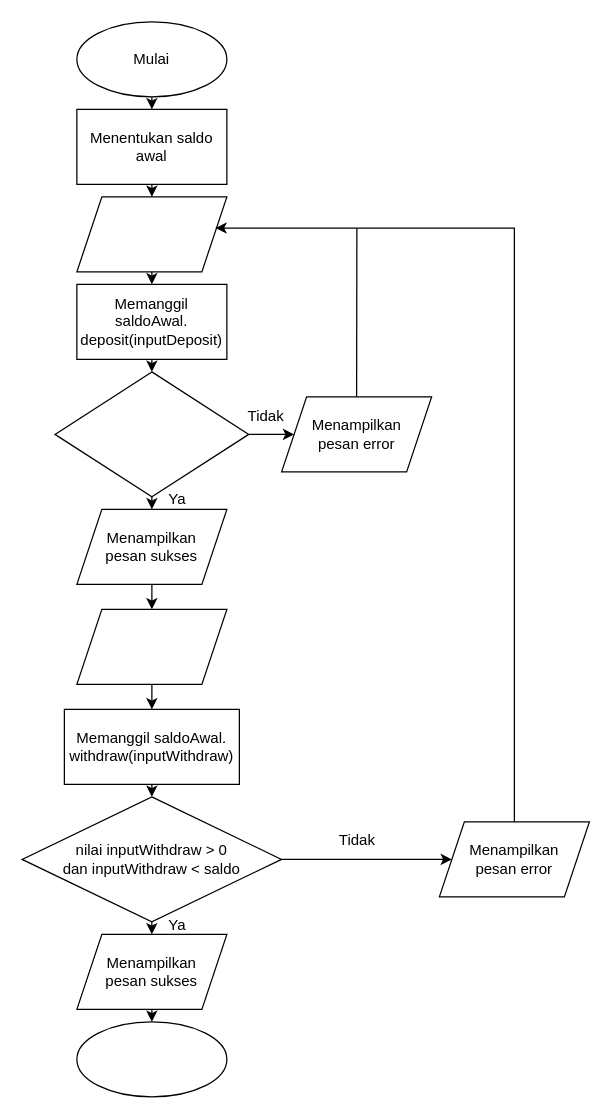
This 611x1119 diagram has some shape labels left out. The shapes that lost their labels are listed below. From the top down, each one's box as (x1, y1, x2, y2) in pixels, then its label:
(76, 196, 227, 272): Masukkan nilai inputDeposit
(54, 371, 249, 497): nilai inputDeposit > 0
(76, 608, 227, 684): Masukkan nilai inputWithdraw
(76, 1021, 227, 1097): Selesai
